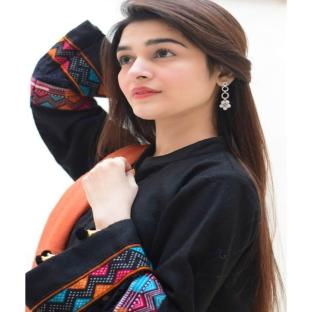Human: (26, 0, 279, 312)
